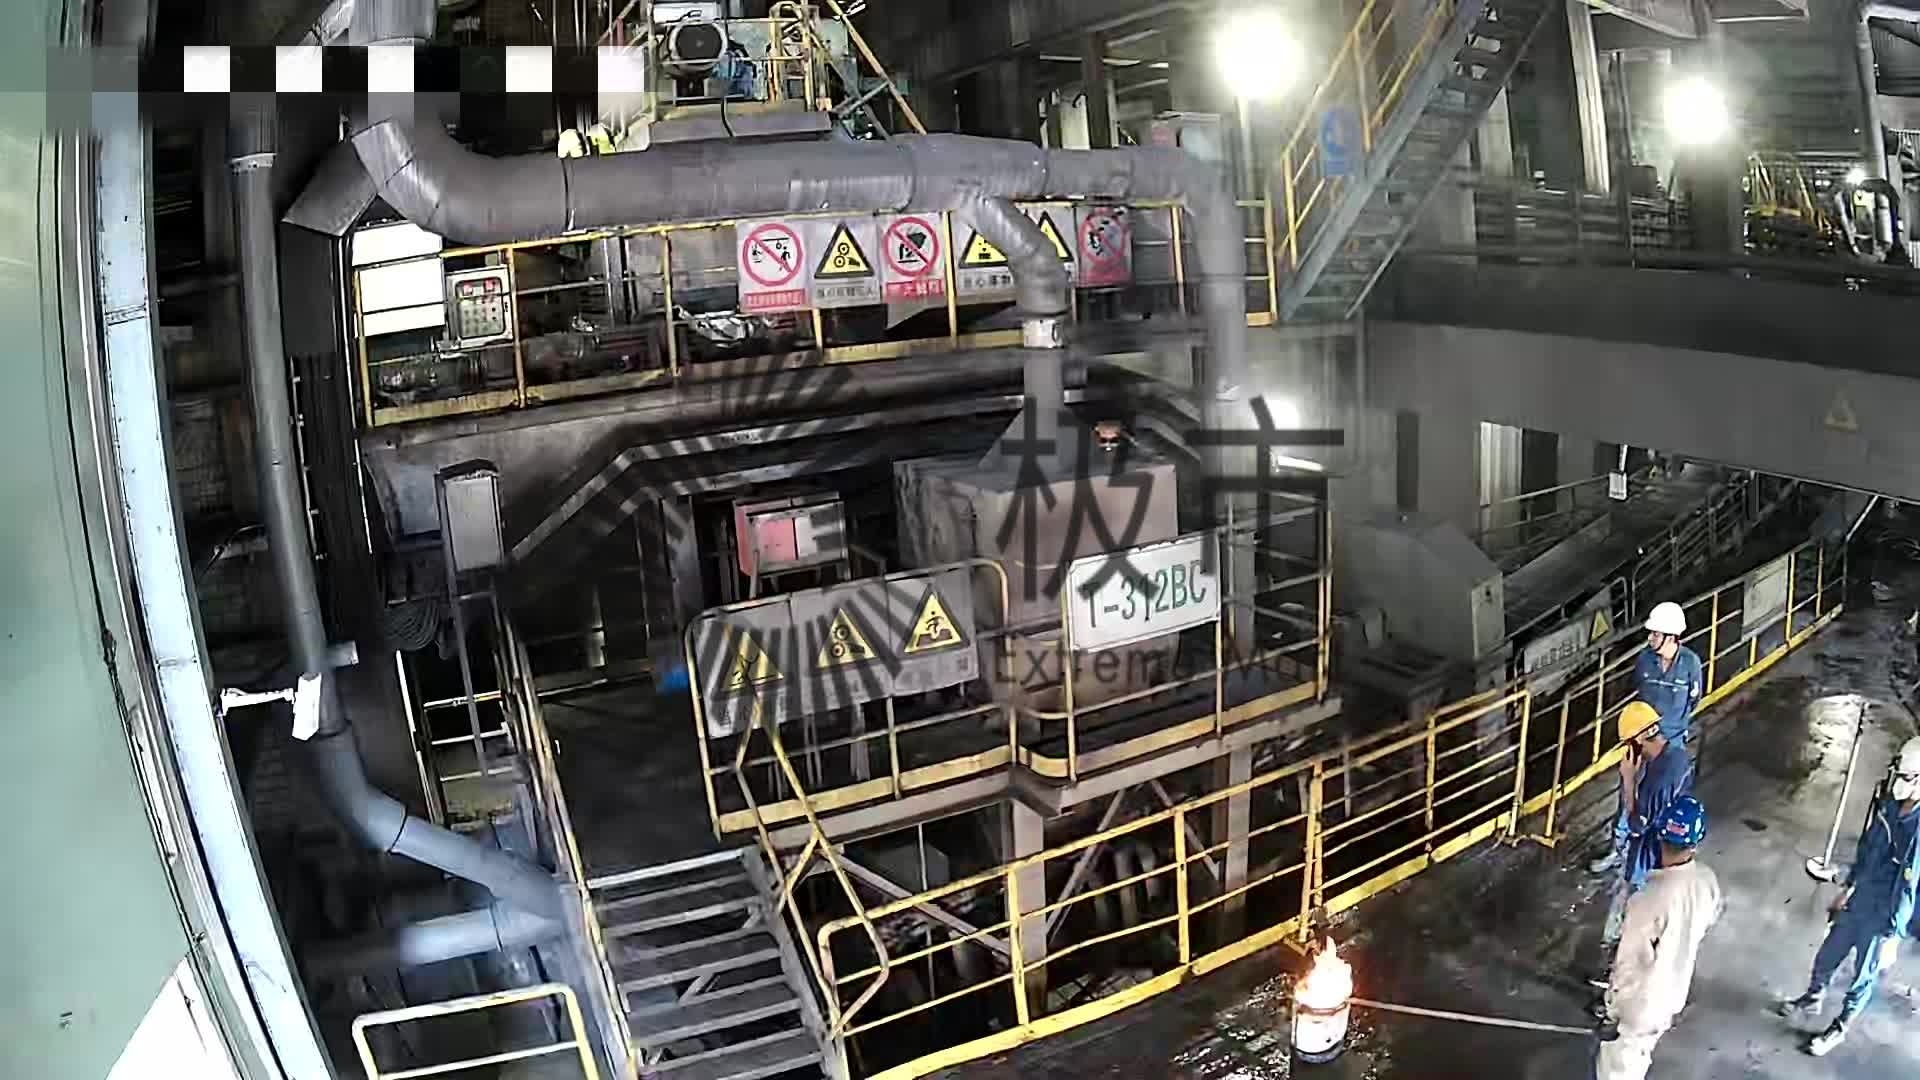fire: (1287, 935, 1354, 1010)
